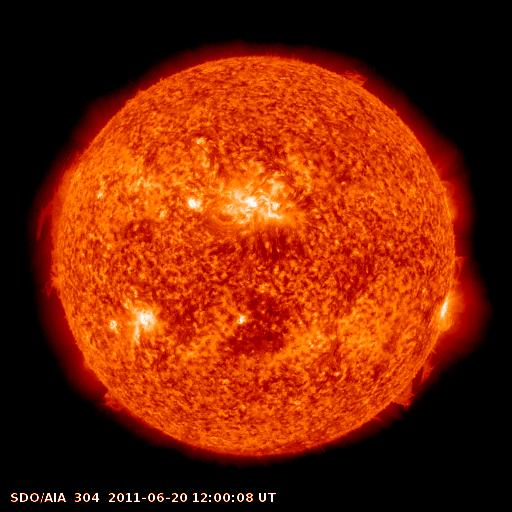prominence: (32, 151, 87, 304), (386, 348, 441, 418), (84, 380, 136, 426), (336, 61, 371, 91), (446, 252, 474, 284)
